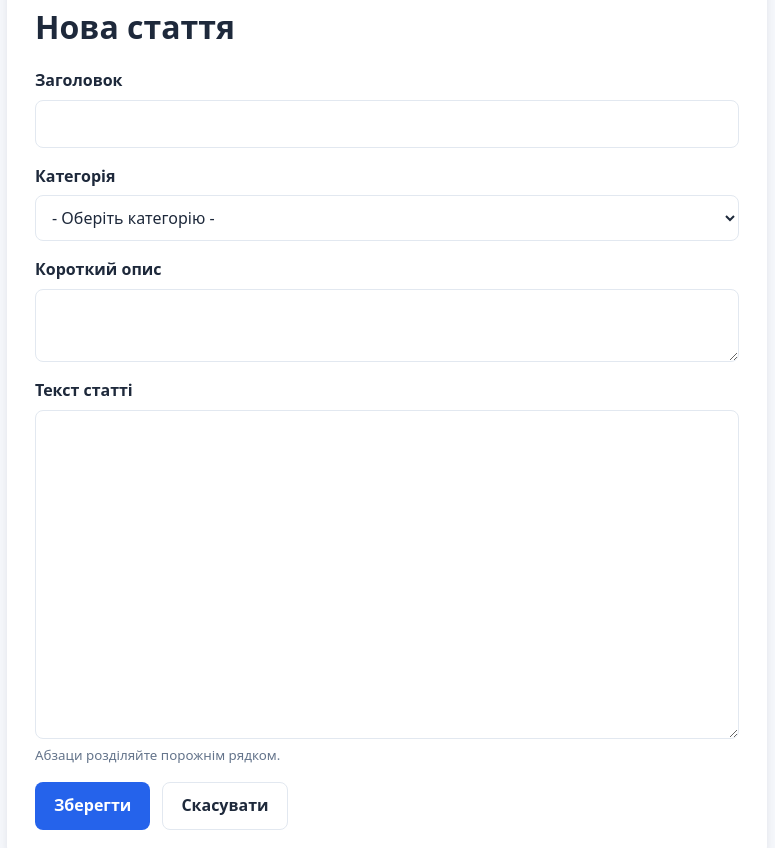
Scenario: ArticleFormPage › показує помилку, яку повернув сервер
Type "Нова тестова стаття" into the field labelled "Заголовок" at (387, 124), box [35,100,739,148]
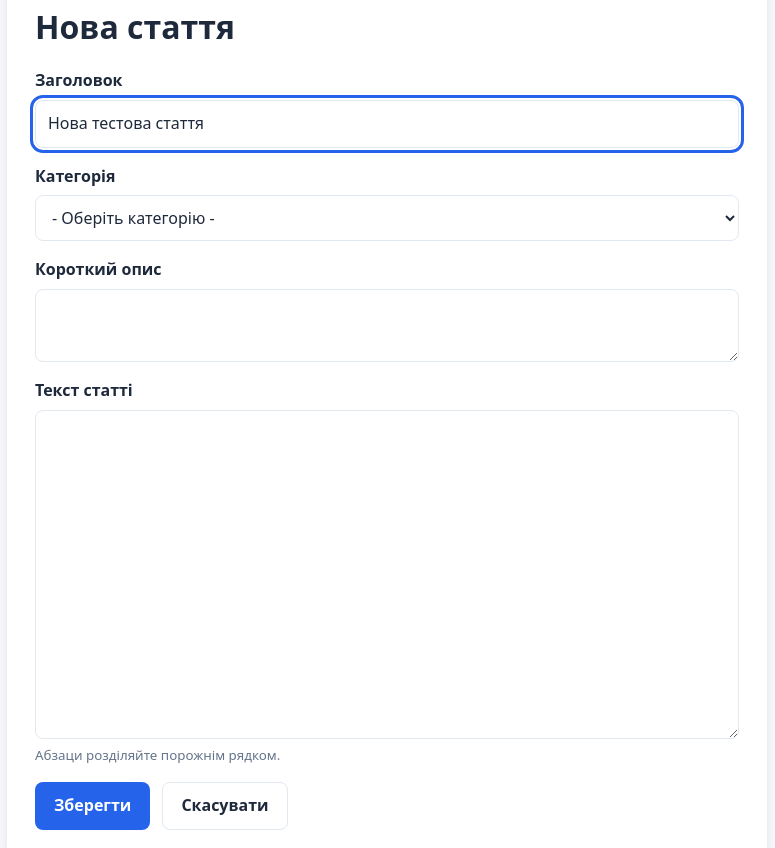
Type "Опис нової тестової статті" into the text box labelled "Короткий опис" at (387, 325), box [35,289,739,362]
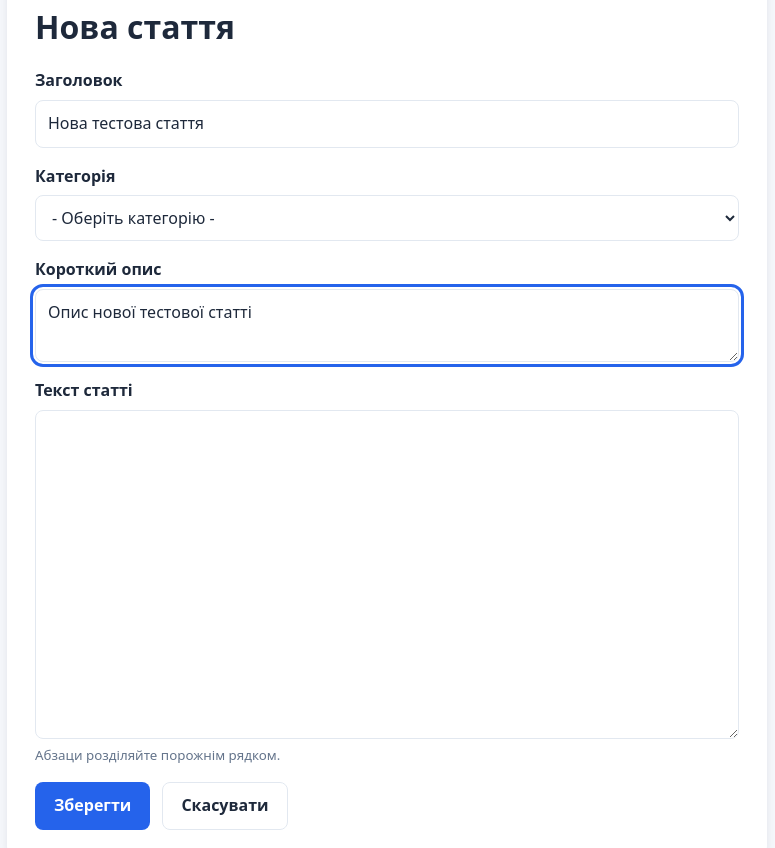
Type "Текст нової тестової статті для перевірки" into the text box labelled "Текст статті" at (387, 574), box [35,410,739,739]
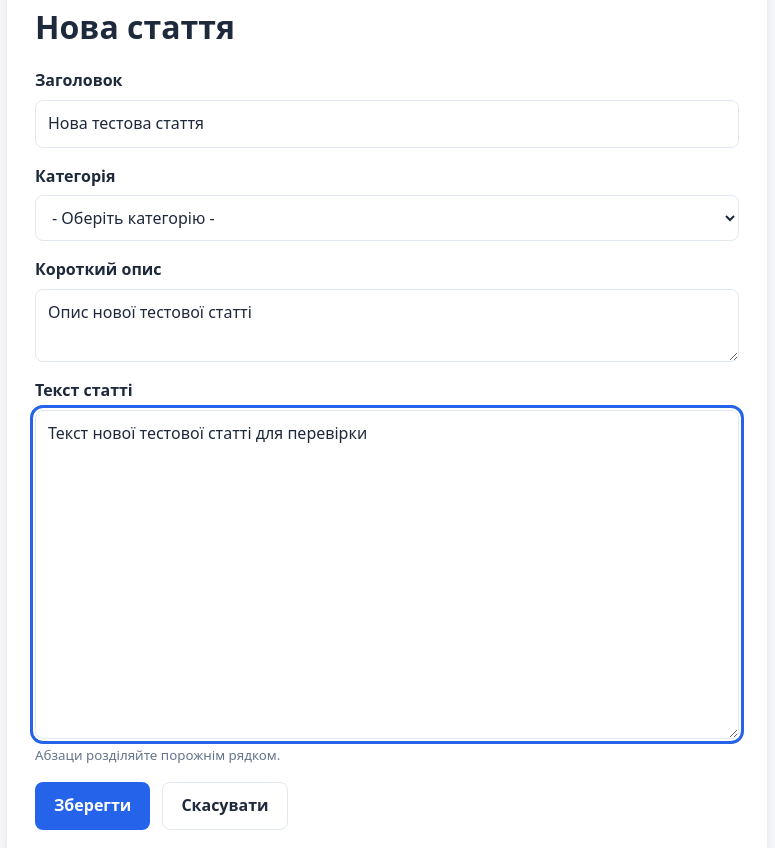
Select "Технології" in the dropdown labelled "Категорія" at (387, 218), box [35,195,739,241]
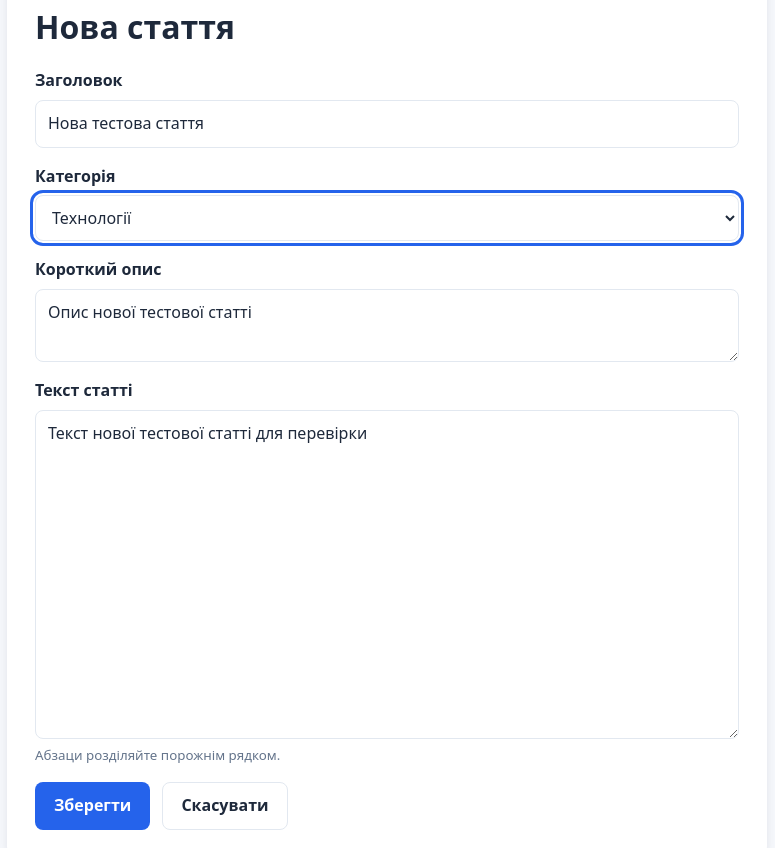
Click the button "Зберегти" at (93, 806), box [35,782,150,830]
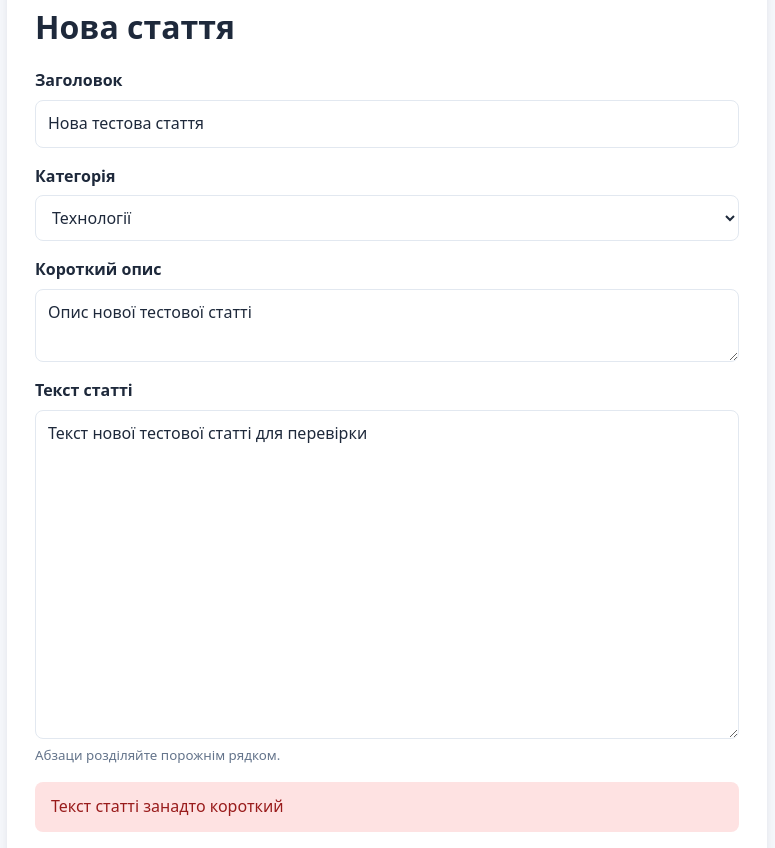
Expected: the message reads "Текст статті занадто короткий", [51,795,284,817]
